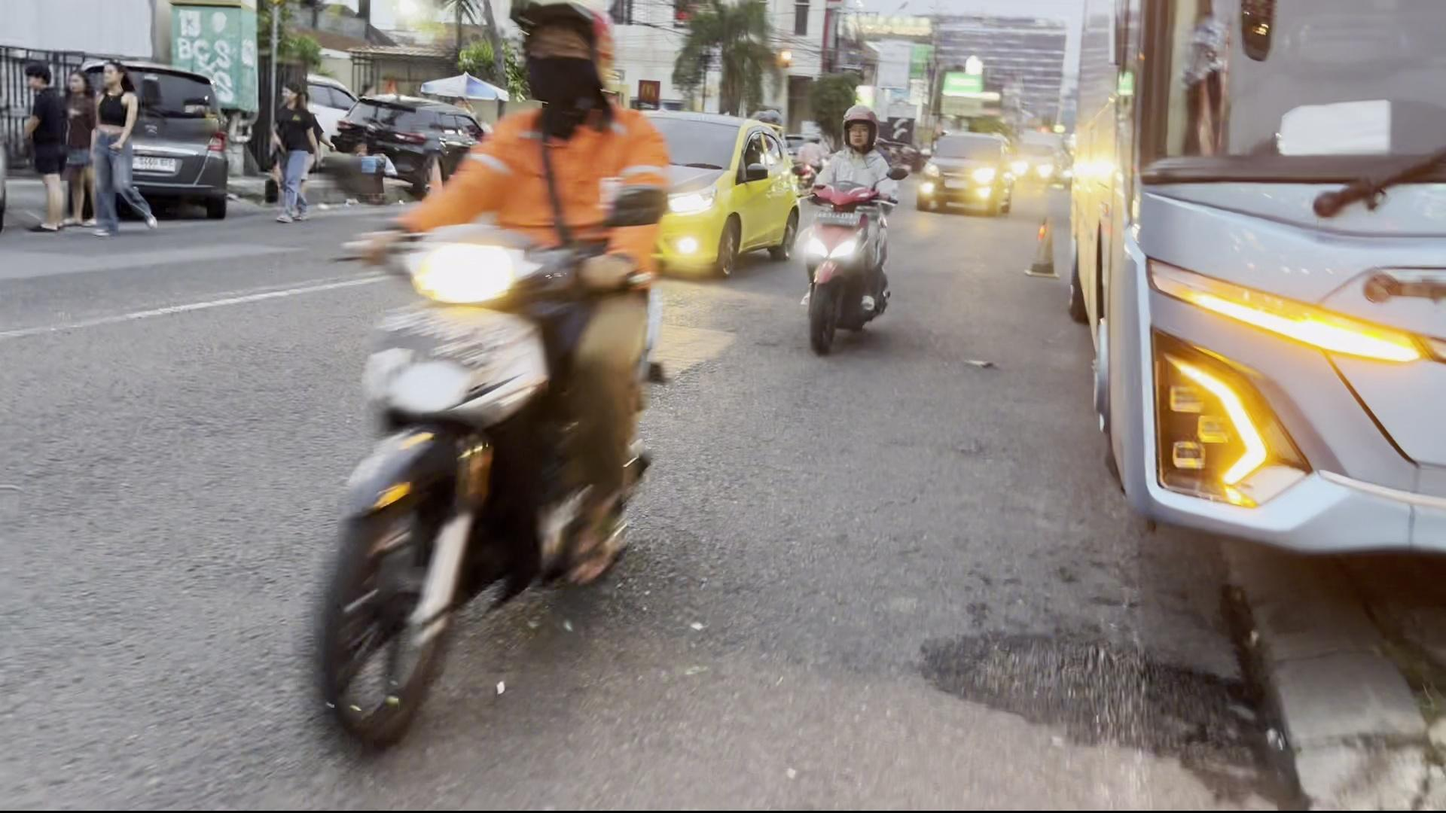helm: (835, 99, 888, 158)
riding: (784, 91, 903, 365)
